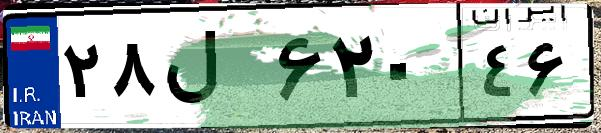0: (385, 28, 445, 110)
2: (330, 28, 385, 110), (57, 26, 110, 100)
4: (475, 38, 525, 113)
6: (270, 28, 330, 110), (525, 38, 570, 115)
8: (110, 28, 158, 98)
ل: (158, 20, 270, 120)
